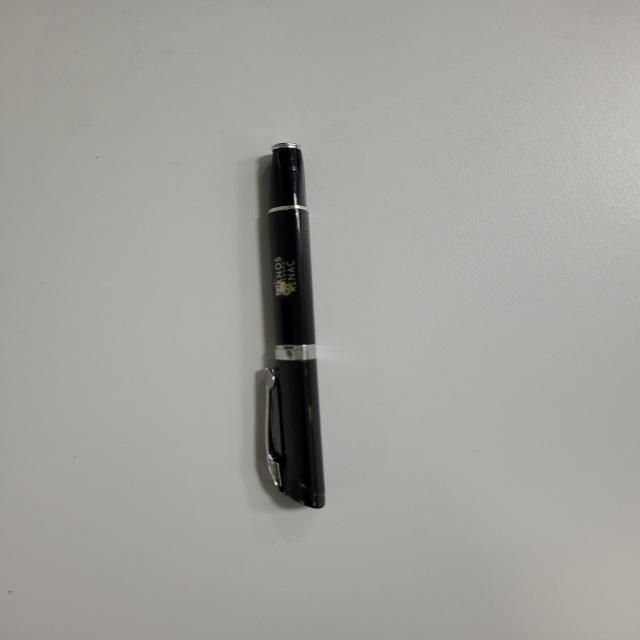caneta: (233, 132, 363, 522)
